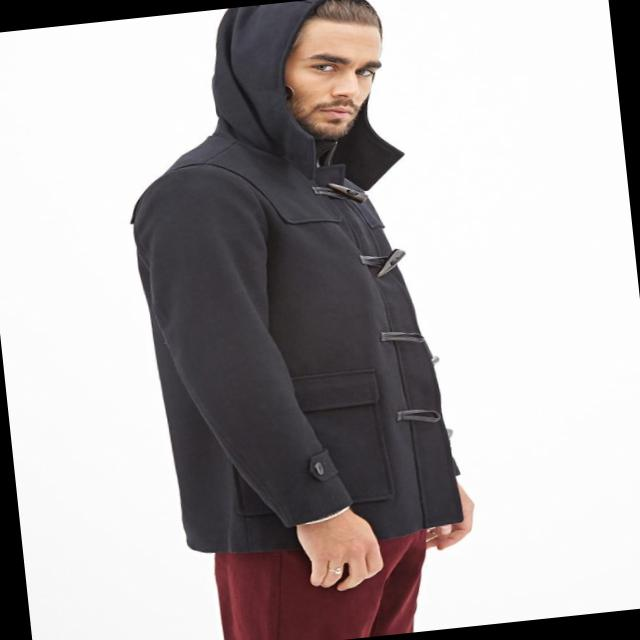Jacket: (121, 124, 482, 570)
